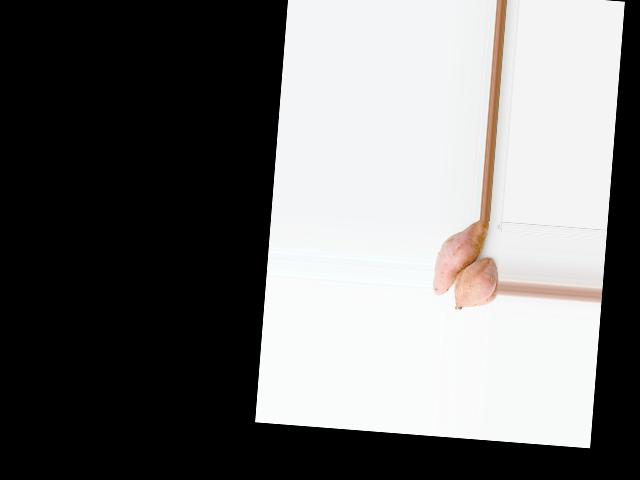sweet_potato: (456, 258, 494, 313)
